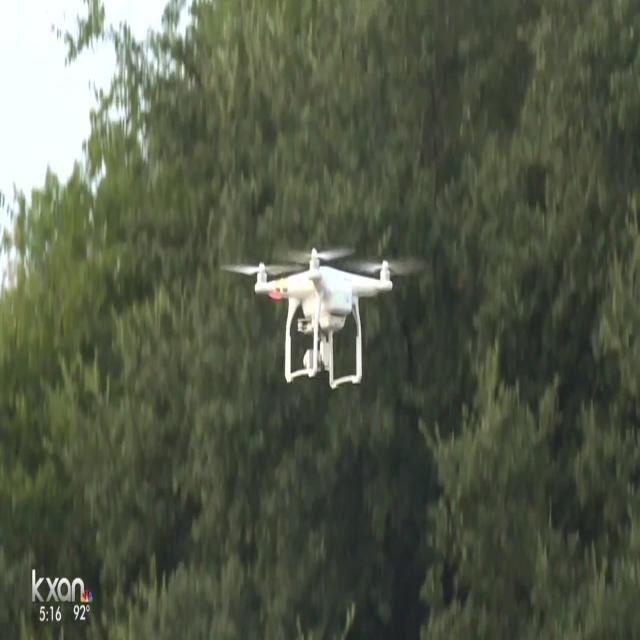UAV: (220, 247, 425, 389)
